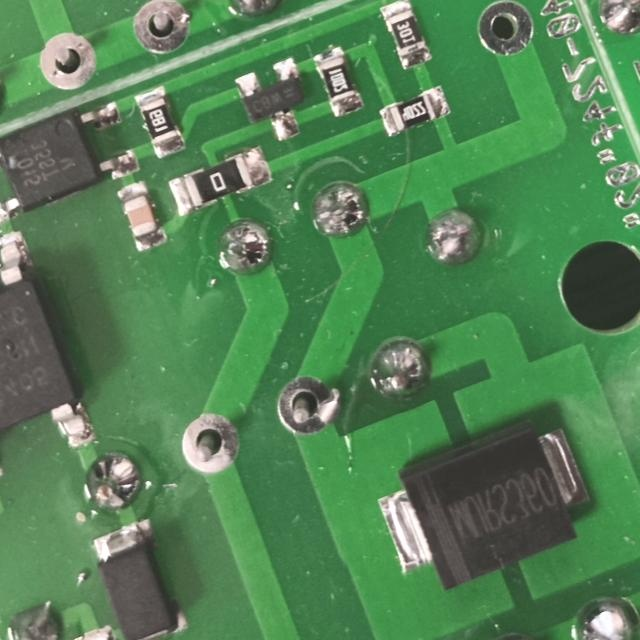chip-capacitor: (108, 176, 168, 256)
chip-resistor: (159, 141, 274, 219), (305, 39, 367, 122), (127, 82, 190, 162), (372, 80, 454, 141), (373, 0, 435, 74)
diode: (358, 404, 606, 608), (81, 512, 193, 640)
ic: (0, 88, 143, 232)
transistor: (224, 51, 322, 153)
